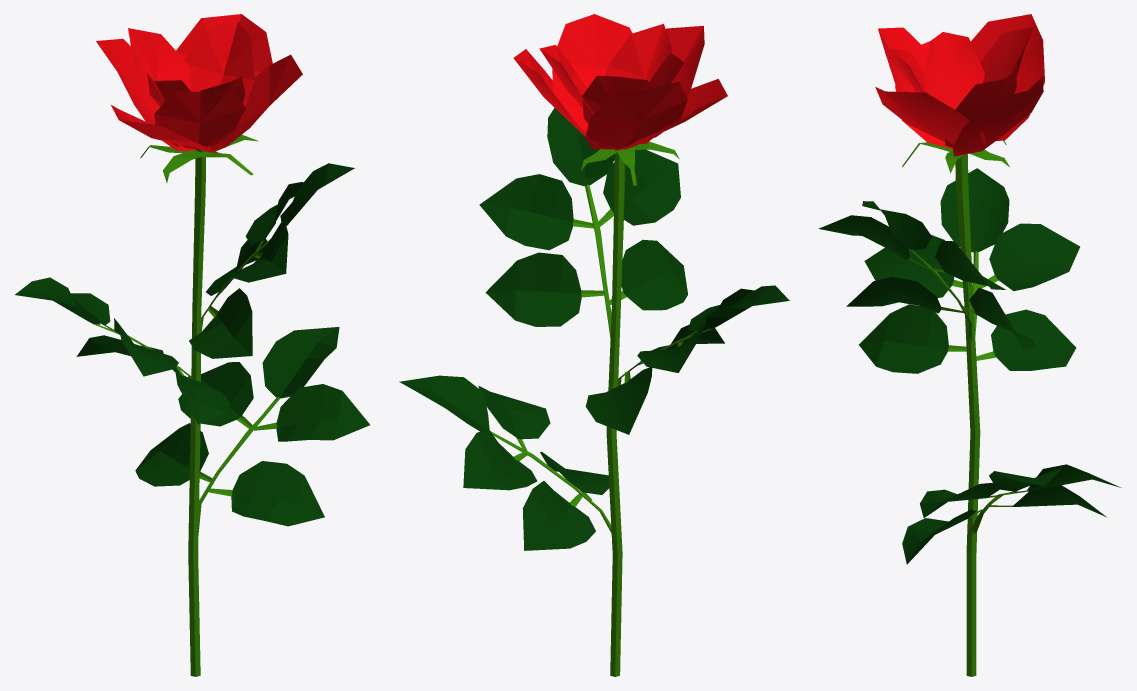
The model's file is rose.fbx.
The picture shows the model from 3 angles, left to right: view 1: azimuth 30°, elevation 25°; view 2: azimuth 150°, elevation 25°; view 3: azimuth 270°, elevation 25°; orthographic projection.
Parts seen in each view (by area): view 1: polySurface187, polySurface210, polySurface211, polySurface232, polySurface218, polySurface228, polySurface209, polySurface216, polySurface241, polySurface215, polySurface235, polySurface227 (+15 smaller); view 2: polySurface205, polySurface206, polySurface187, polySurface226, polySurface241, polySurface199, polySurface209, polySurface216, polySurface215, polySurface207, polySurface218, polySurface189 (+16 smaller); view 3: polySurface187, polySurface190, polySurface188, polySurface189, polySurface192, polySurface231, polySurface234, polySurface240, polySurface227, polySurface195, polySurface200, polySurface237 (+15 smaller).
Boxes of the visible parts, bbox=[...] form: polySurface187: bbox=[188, 149, 205, 676]; polySurface210: bbox=[254, 384, 369, 441]; polySurface211: bbox=[209, 461, 324, 521]; polySurface232: bbox=[184, 21, 254, 147]; polySurface218: bbox=[262, 327, 339, 398]; polySurface228: bbox=[154, 89, 245, 149]; polySurface209: bbox=[189, 288, 252, 358]; polySurface216: bbox=[135, 423, 212, 486]; polySurface241: bbox=[209, 54, 302, 152]; polySurface215: bbox=[178, 362, 253, 428]; polySurface235: bbox=[176, 14, 272, 77]; polySurface227: bbox=[96, 38, 189, 151]; polySurface205: bbox=[485, 252, 604, 326]; polySurface206: bbox=[479, 174, 594, 250]; polySurface187: bbox=[606, 152, 625, 676]; polySurface226: bbox=[585, 81, 687, 149]; polySurface241: bbox=[552, 14, 632, 131]; polySurface199: bbox=[598, 149, 680, 226]; polySurface209: bbox=[608, 240, 687, 310]; polySurface216: bbox=[523, 481, 595, 550]; polySurface215: bbox=[463, 429, 536, 490]; polySurface207: bbox=[547, 108, 614, 186]; polySurface218: bbox=[399, 375, 489, 431]; polySurface189: bbox=[585, 367, 652, 434]; polySurface187: bbox=[955, 154, 980, 676]; polySurface190: bbox=[859, 304, 966, 373]; polySurface188: bbox=[979, 223, 1079, 291]; polySurface189: bbox=[976, 309, 1076, 370]; polySurface192: bbox=[940, 168, 1009, 252]; polySurface231: bbox=[924, 32, 984, 109]; polySurface234: bbox=[952, 77, 1043, 156]; polySurface240: bbox=[875, 87, 986, 145]; polySurface227: bbox=[970, 14, 1044, 140]; polySurface195: bbox=[864, 235, 973, 298]; polySurface200: bbox=[846, 276, 963, 313]; polySurface237: bbox=[980, 27, 1033, 94].
Bounding box in the file's own units: 59.79 × 101 × 44.07.
